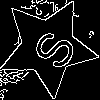S: (23, 22, 79, 73)
